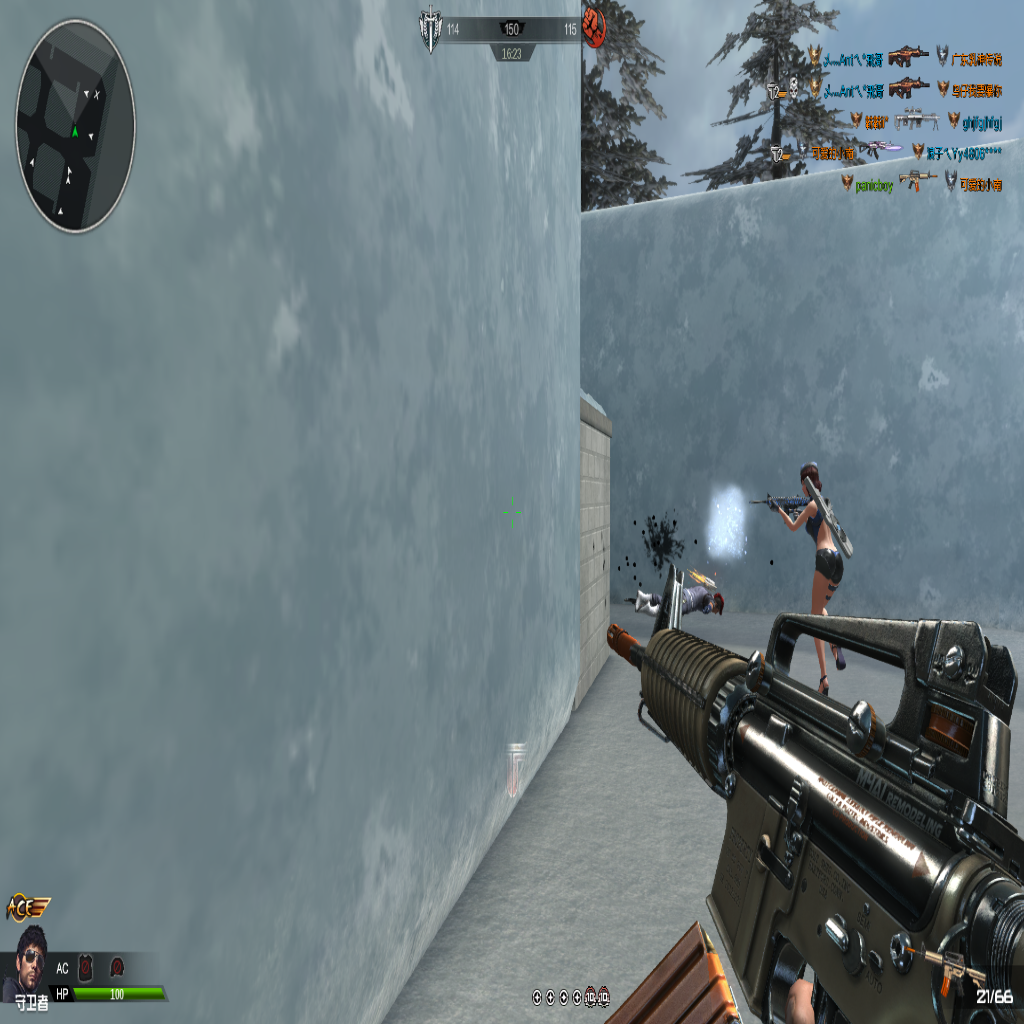ct: (768, 464, 846, 693)
